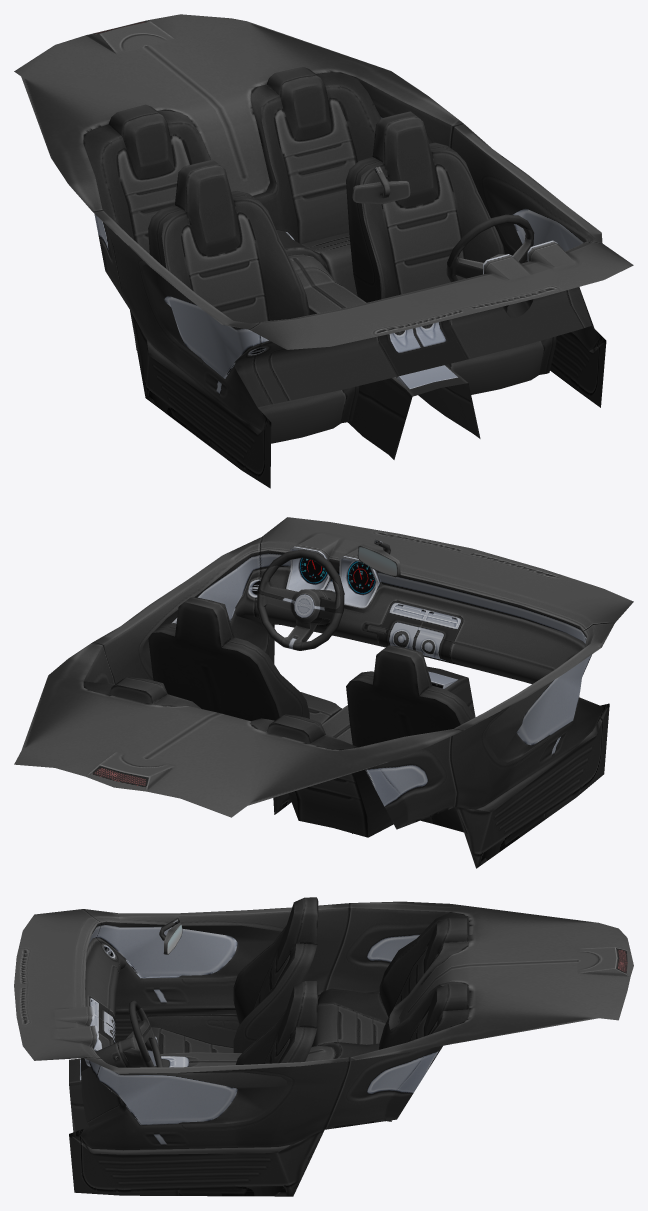
The model's file is Car_14_Interior.FBX.
3 renders of one model, top to bottom at view 1: azimuth 30°, elevation 25°; view 2: azimuth 150°, elevation 25°; view 3: azimuth 270°, elevation 25°, orthographic. The views are drawn at different scales.
Parts seen in each view (by area): view 1: Car_14_Interior_B; view 2: Car_14_Interior_B; view 3: Car_14_Interior_B.
Boxes of the visible parts, x1,y1,x2,y2 form: Car_14_Interior_B: (14, 14, 633, 488); Car_14_Interior_B: (14, 517, 633, 868); Car_14_Interior_B: (14, 897, 633, 1196).
Bounding box in the file's own units: 1.57 × 2.57 × 0.9475.
